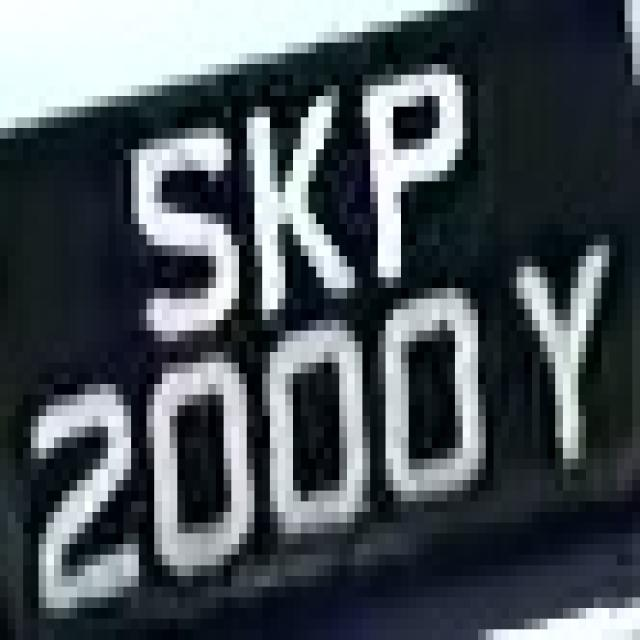0: (254, 277, 394, 555), (146, 330, 270, 586), (362, 277, 486, 523)
2: (8, 342, 146, 598)
K: (231, 85, 355, 320)
P: (362, 64, 470, 267)
S: (108, 85, 239, 363)
Y: (478, 235, 625, 501)
